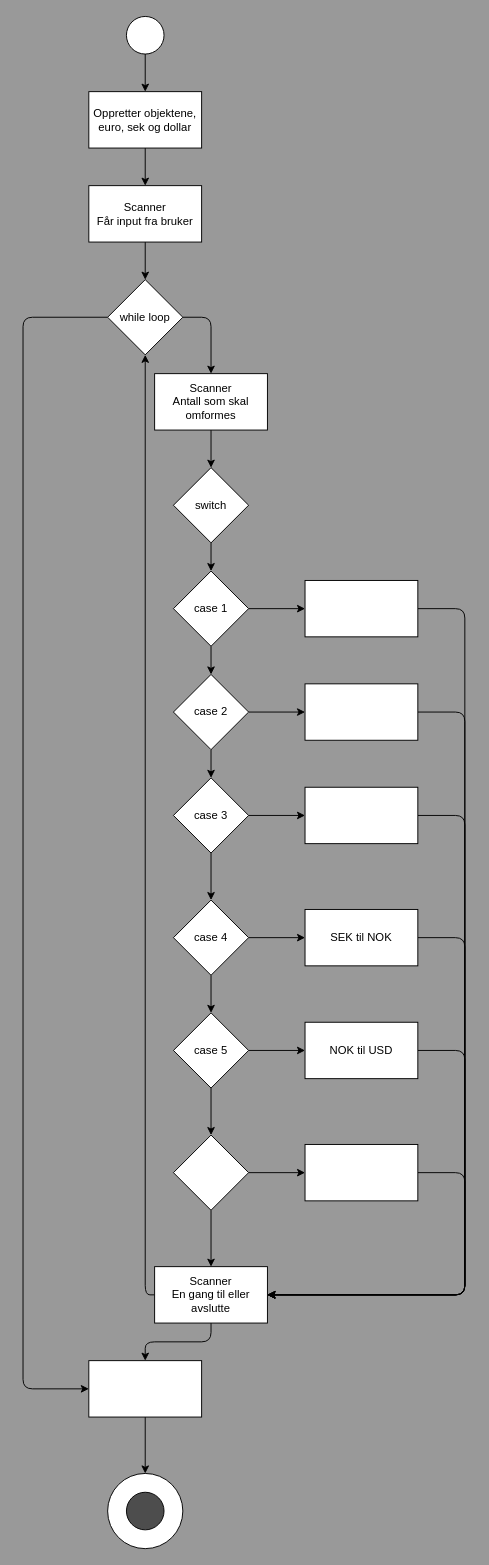
Some shapes in this 489 by 1565 pixel diagram are drawn without their labels. Here are the shapes that lost their labels. From the top down, the box of each, then its label:
(304, 580, 418, 637): NOK til EUR
(304, 683, 418, 740): EUR til NOK
(304, 786, 418, 844): NOK til SEK
(172, 1134, 249, 1210): case 6
(304, 1144, 418, 1201): USD til NOK
(88, 1360, 202, 1417): print HADE!
